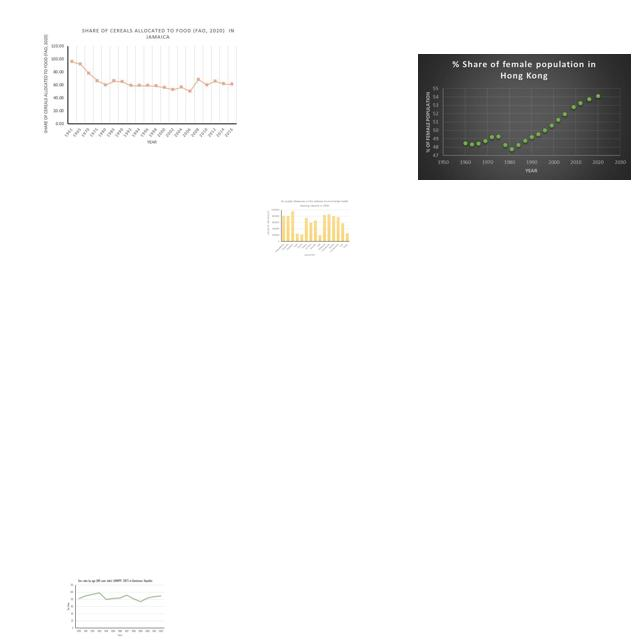Graph: (418, 54, 631, 180), (39, 24, 240, 146), (65, 578, 166, 638), (265, 197, 351, 258)
